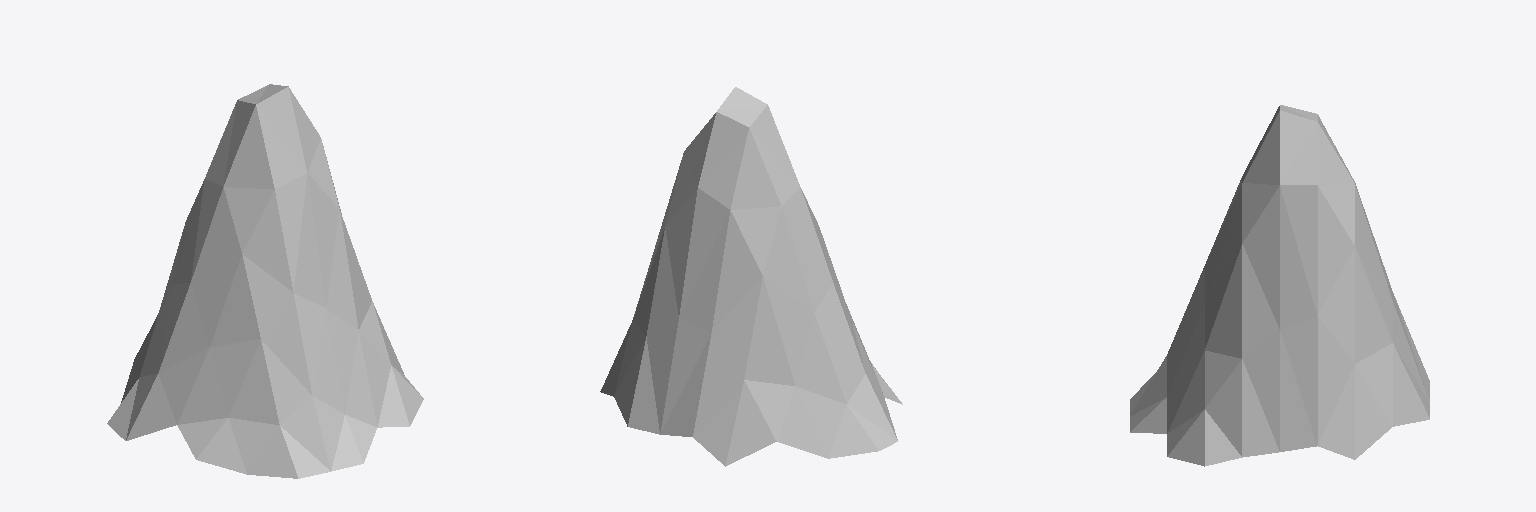
The model's file is tree_32.obj.
3 views of the same model, side by side, from view 1: azimuth 30°, elevation 25°; view 2: azimuth 150°, elevation 25°; view 3: azimuth 270°, elevation 25° (orthographic).
Parts seen in each view (by area): view 1: tree_32.001; view 2: tree_32.001; view 3: tree_32.001.
Part boxes in pixels (x1,y1,x2,y2): tree_32.001: (107, 84, 423, 478); tree_32.001: (600, 87, 902, 466); tree_32.001: (1130, 105, 1429, 466).
Size of the model in its own units: 8 by 9.48 by 8.